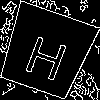H: (21, 26, 74, 82)
